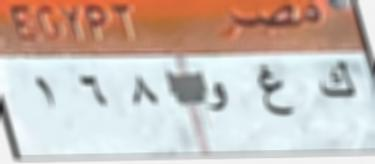1: (31, 68, 64, 114)
6: (78, 68, 112, 113)
8: (127, 70, 161, 108)
ghayn: (248, 64, 298, 120)
kaaf: (314, 56, 361, 110)
waw: (205, 77, 234, 117)
